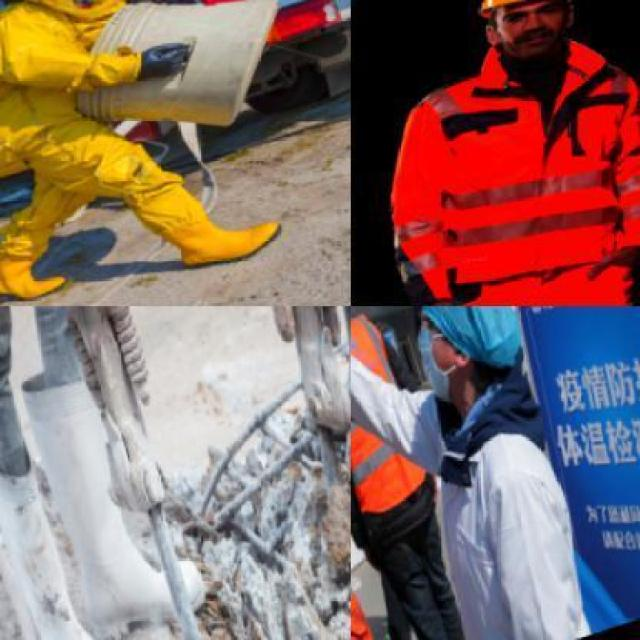hat: (449, 0, 596, 35)
